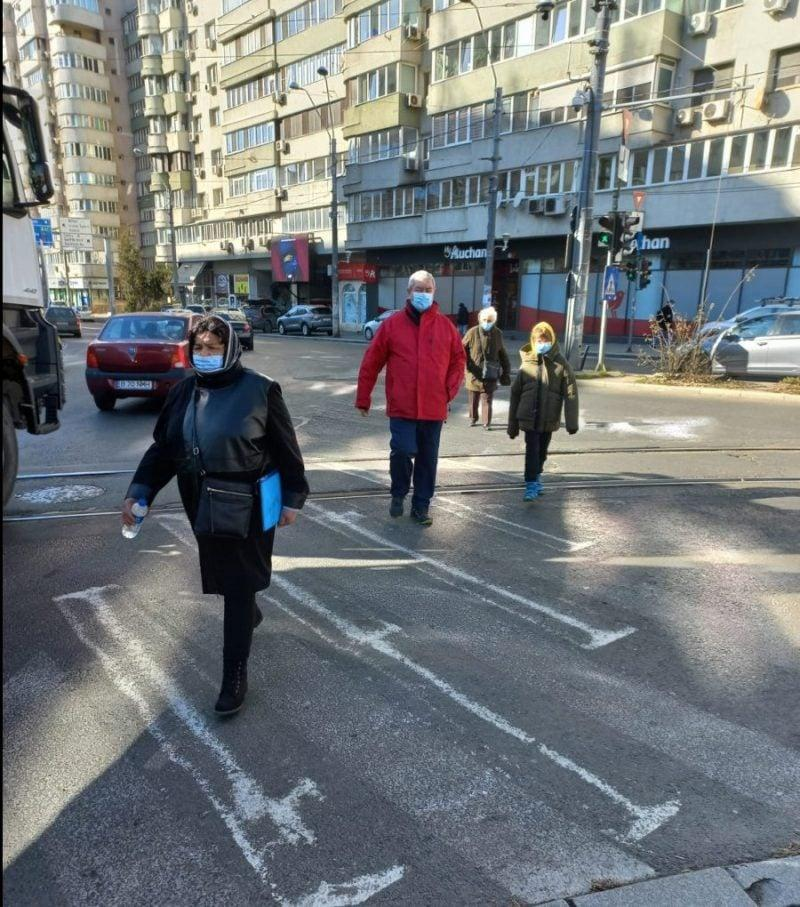faded_road_lines: (15, 385, 682, 905)
